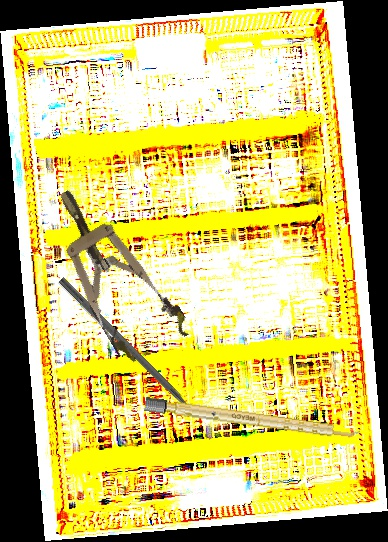Hook Surgical: (56, 277, 206, 427)
Scalpel Handle: (144, 396, 361, 442)
Speculum: (32, 171, 194, 372)
